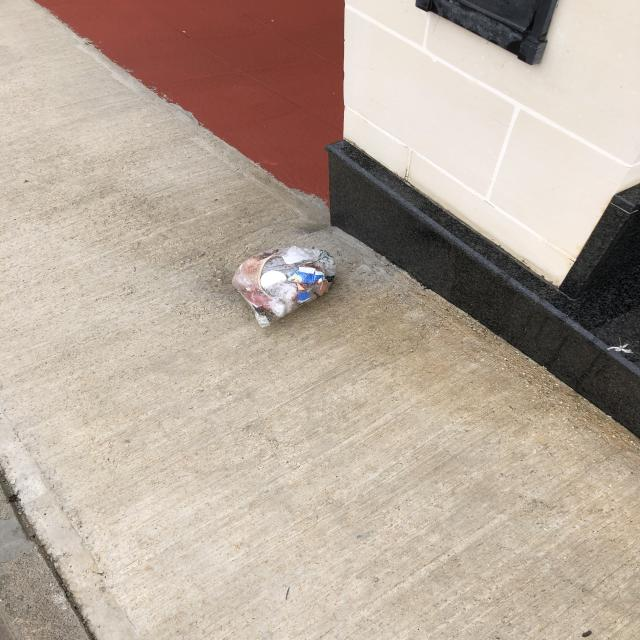Organic Waste -White Bag-: (232, 242, 340, 322)
